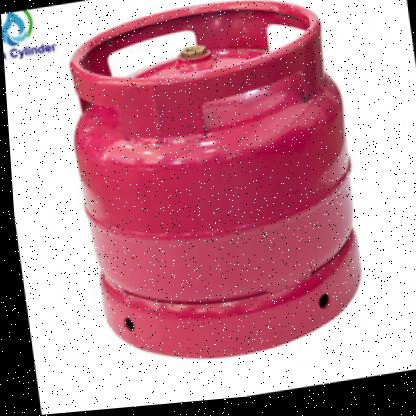gas-tank: (41, 0, 384, 393)
